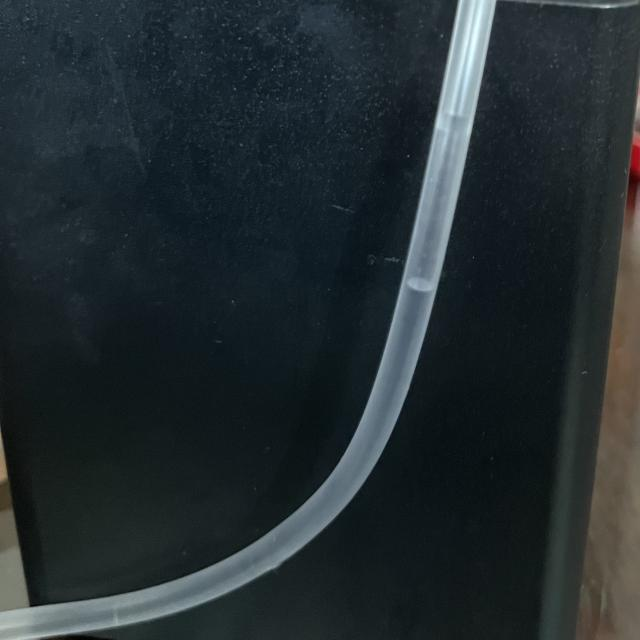bubble: (397, 114, 469, 316)
